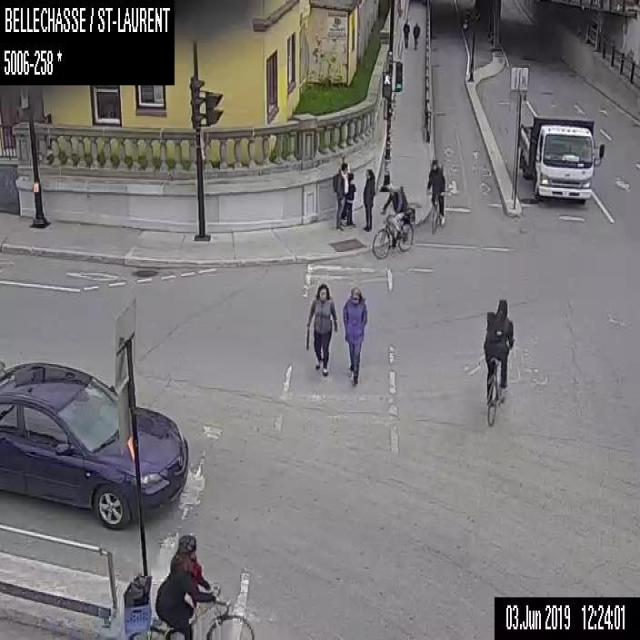cyclist: (122, 532, 255, 639), (482, 297, 514, 427), (372, 182, 415, 258), (425, 158, 445, 235)
pedestrian: (304, 283, 338, 373), (340, 285, 367, 384), (332, 160, 348, 229), (362, 168, 374, 231), (346, 172, 356, 224), (402, 17, 409, 47), (412, 20, 419, 49)
vehicle: (0, 361, 187, 531), (516, 93, 604, 203)
